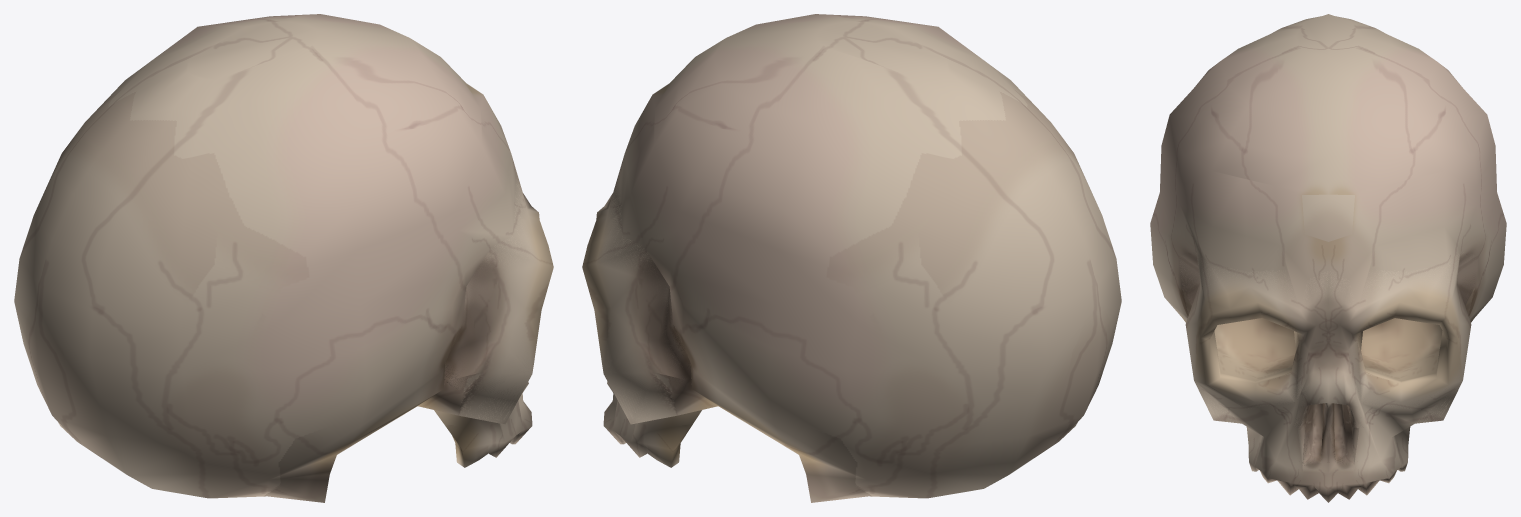
File: Skull.fbx
The picture shows the model from 3 angles, left to right: view 1: azimuth 30°, elevation 25°; view 2: azimuth 150°, elevation 25°; view 3: azimuth 270°, elevation 25°; orthographic projection. The views are drawn at different scales.
Visible parts, largest first — view 1: Skull; view 2: Skull; view 3: Skull.
Part boxes in pixels (x1,y1,x2,y2): Skull: (14, 14, 553, 502); Skull: (582, 14, 1121, 502); Skull: (1150, 14, 1506, 502).
Bounding box in the file's own units: 320 × 265 × 234.
